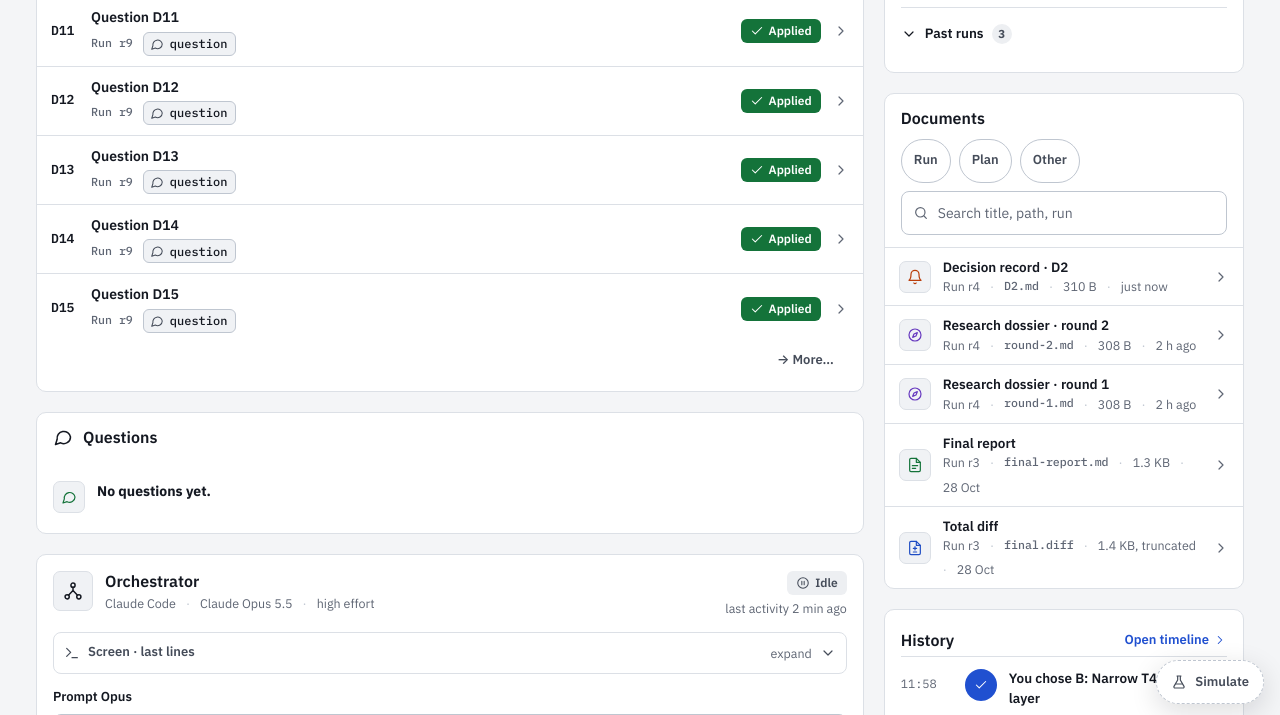
Scenario: Workspace Decisions and Documents › shows 15 decisions in Everything and More opens the full Decisions list
(page scrolled)
Click the button "→ More…" at (805, 361), box [764,343,847,379]
(page scrolled)
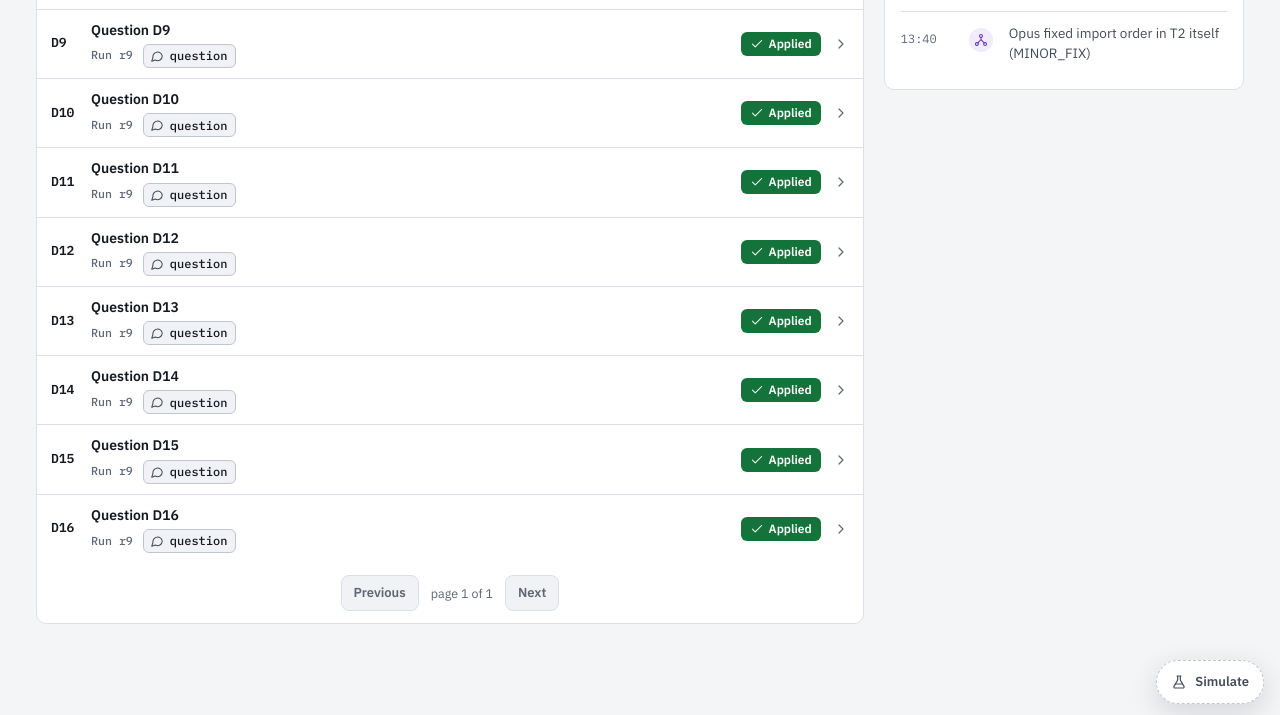
expect the text "page 1 of 1" is shown: met, box [431,584,493,602]
